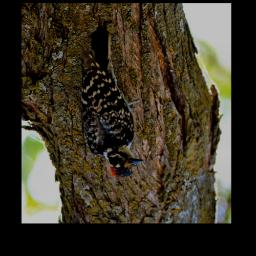Woodpecker: (85, 18, 143, 180)
